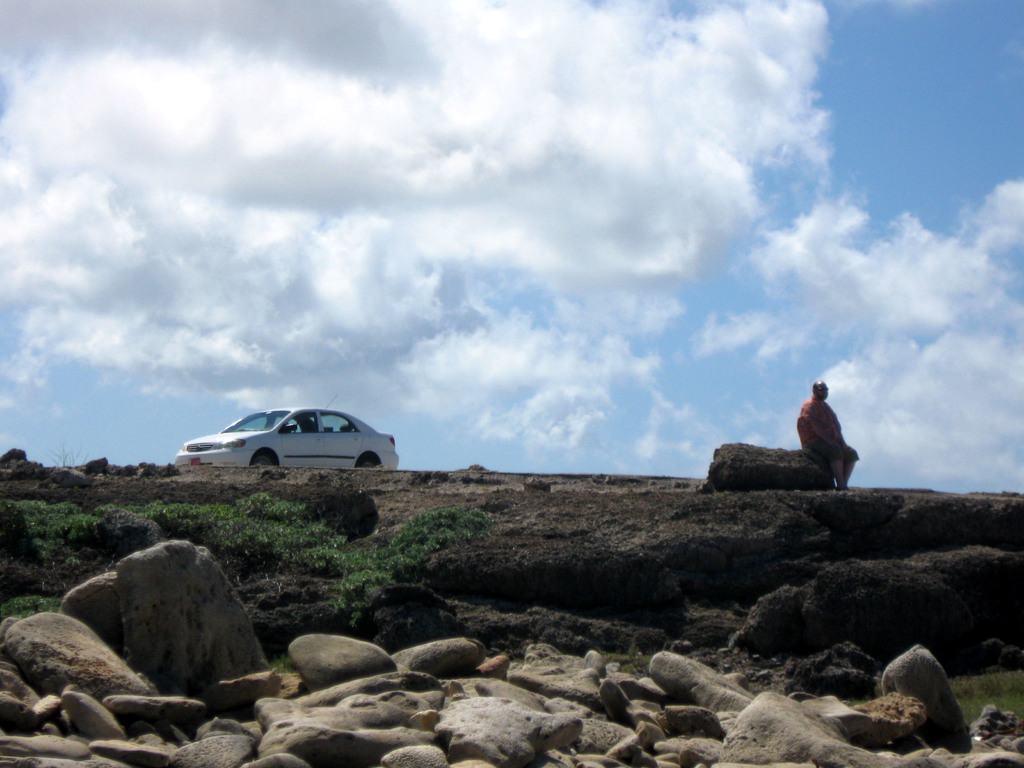Car: (184, 408, 392, 469)
